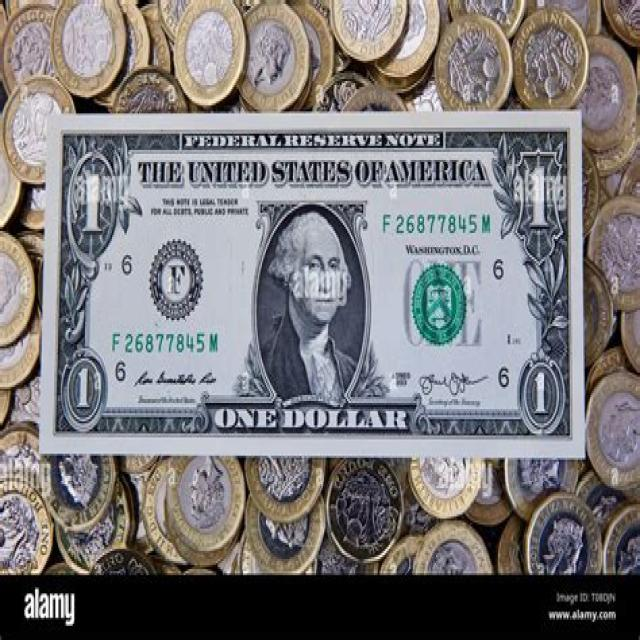One: (44, 112, 586, 461)
